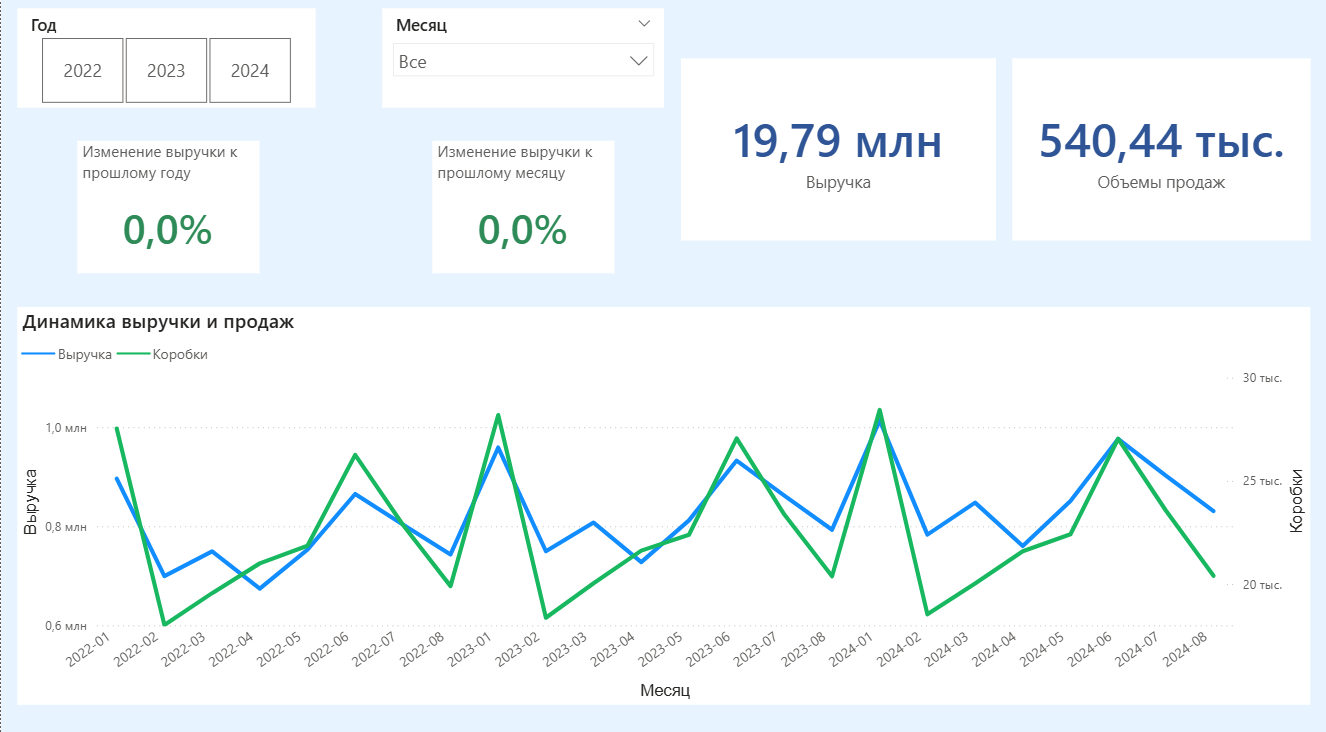

This screenshot's page, from the dashboard's own definition file:
{"tool":"powerbi","page":{"name":"Что происходит","canvas":[1280,720],"ordinal":0},"visuals":[{"type":"slicer","fields":{"Values":["Date.Year"]},"box":[16,16,288,96],"z":0},{"type":"card","title":"Изменение выручки к прошлому месяцу","fields":{"Values":["Date.Revenue MoM % (Display)"]},"box":[416,144,176,128],"z":1000},{"type":"slicer","fields":{"Values":["Date.MonthName"]},"box":[368,16,272,96],"z":2000},{"type":"card","title":"Изменение выручки к прошлому году","fields":{"Values":["Date.Revenue YoY % (Display)"]},"box":[74,143.2,176,128],"z":3000},{"type":"card","fields":{"Values":["sales_month.Total Amount"]},"box":[656,64,304,176],"z":4000},{"type":"card","fields":{"Values":["boxes_month.Amount Boxes"]},"box":[976,64,288,176],"z":5000},{"type":"lineChart","title":"Динамика выручки и продаж","fields":{"Y":["sales_month.Total Amount"],"Category":["Date.YearMonth"],"Y2":["boxes_month.Amount Boxes"]},"box":[16,304,1248,384],"z":6000}]}

Visuals, with their boxes in screenshot pixels (x1, y1, x2, y2), scaled from the page's 1280x720 canvas onto the 1326x732 screenshot:
slicer - Date.Year: 17, 16, 315, 114
"Изменение выручки к прошлому месяцу" card: 431, 146, 613, 277
slicer - Date.MonthName: 381, 16, 663, 114
"Изменение выручки к прошлому году" card: 77, 146, 259, 276
card - sales_month.Total Amount: 680, 65, 994, 244
card - boxes_month.Amount Boxes: 1011, 65, 1309, 244
"Динамика выручки и продаж" lineChart: 17, 309, 1309, 699
